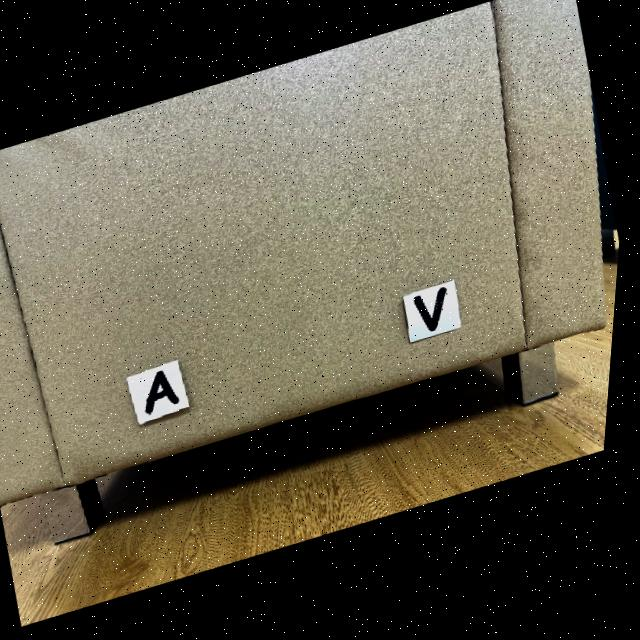A: (152, 373, 185, 416)
V: (419, 293, 451, 336)
